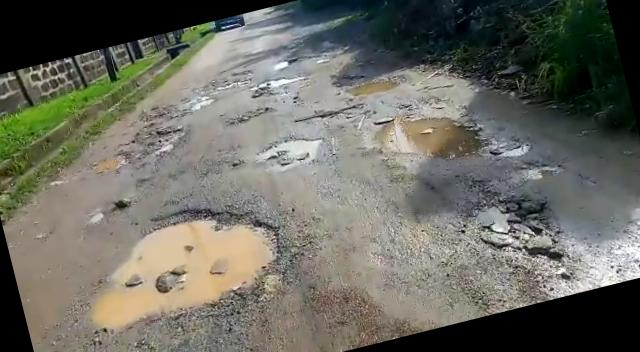pothole: (75, 181, 303, 340), (369, 98, 493, 182), (253, 128, 325, 174), (339, 70, 402, 104), (298, 100, 368, 130), (508, 153, 564, 189), (248, 71, 310, 95), (222, 102, 276, 127), (205, 72, 257, 94), (89, 150, 128, 179)
